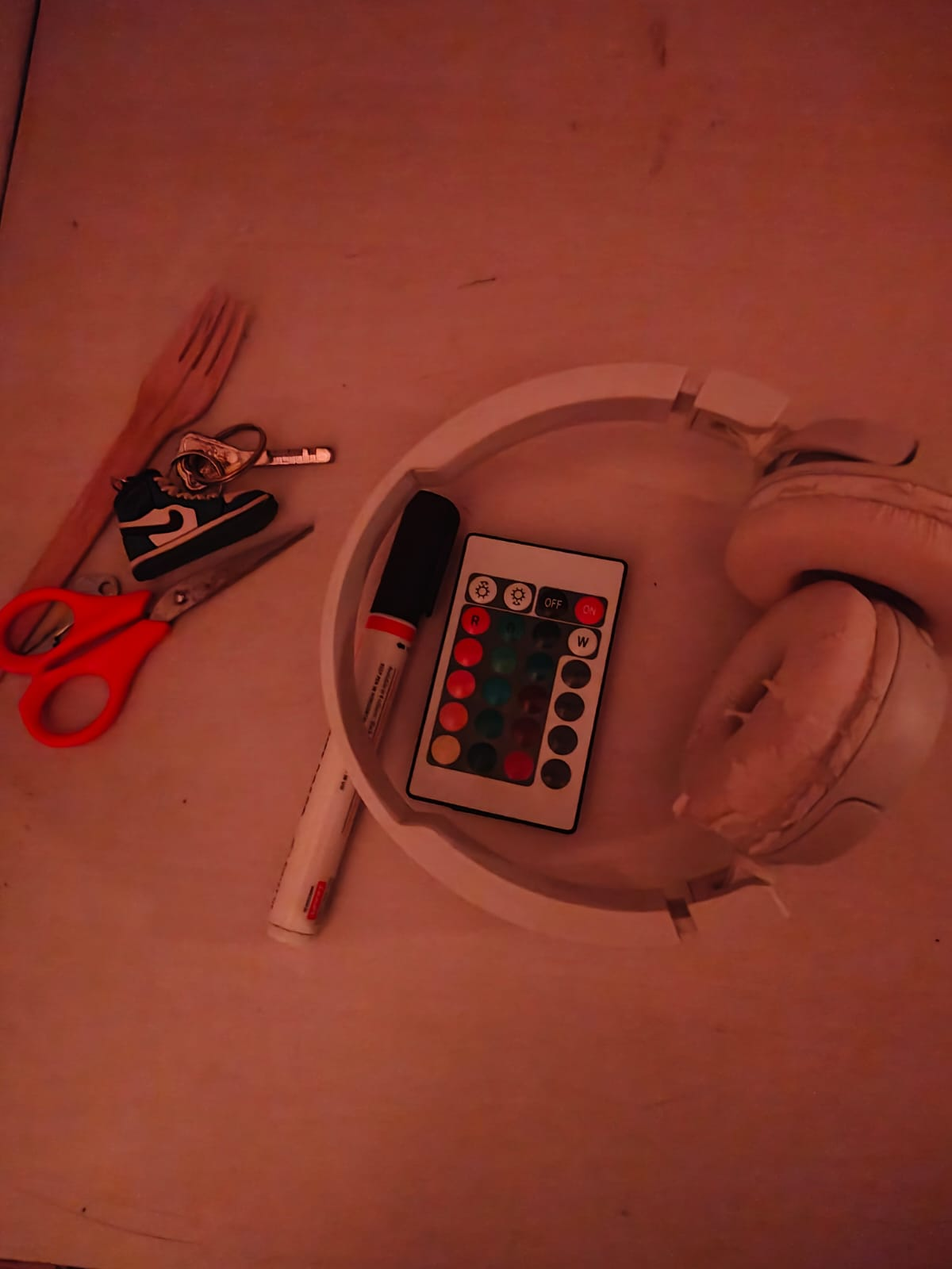case: (258, 475, 462, 945)
